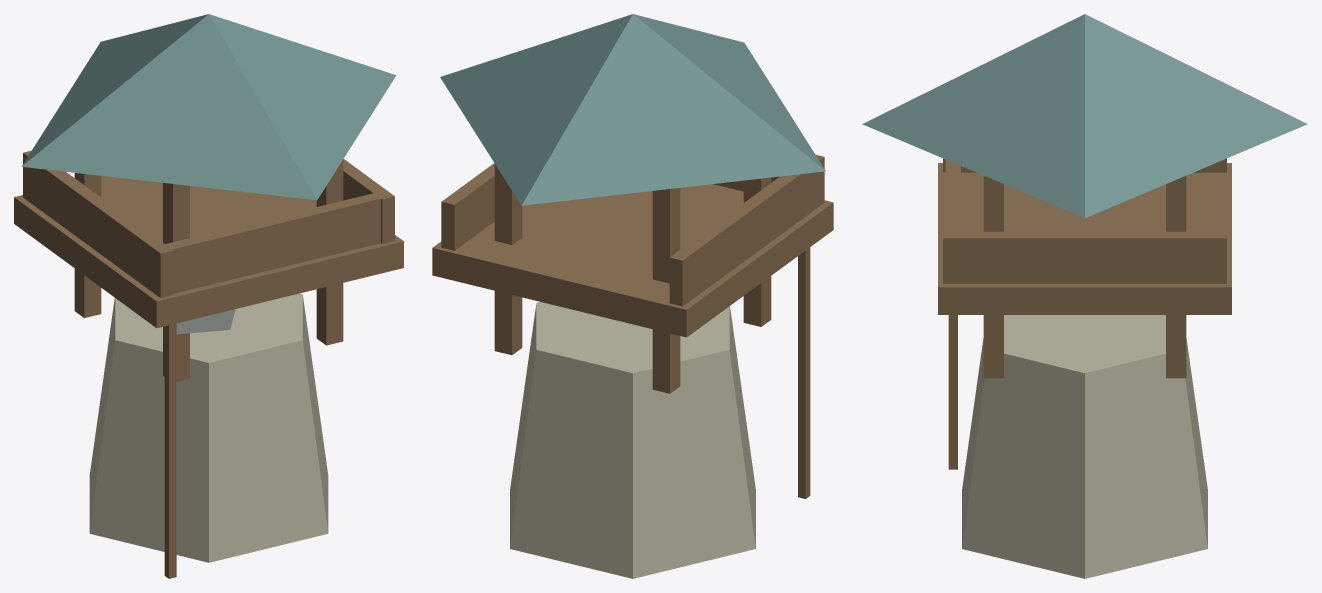
Rendered from defenseTower.glb.
The picture shows the model from 3 angles, left to right: view 1: azimuth 30°, elevation 25°; view 2: azimuth 150°, elevation 25°; view 3: azimuth 270°, elevation 25°; orthographic projection. The views are drawn at different scales.
Parts seen in each view (by area): view 1: Building; view 2: Building; view 3: Building.
Part boxes in pixels (left/top/right/bottom): Building: left=14, top=14, right=403, bottom=578; Building: left=432, top=14, right=833, bottom=578; Building: left=862, top=14, right=1307, bottom=578.
Size of the model in its own units: 44 by 55 by 44.
